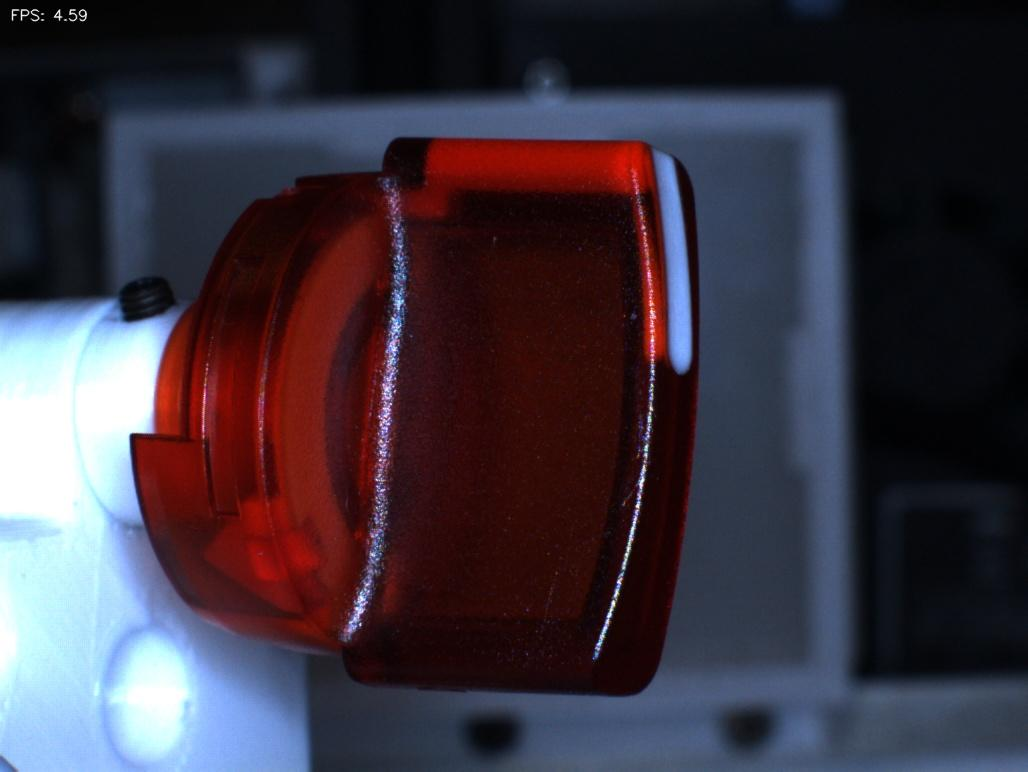Givrage: (599, 382, 666, 522), (510, 561, 581, 665)
